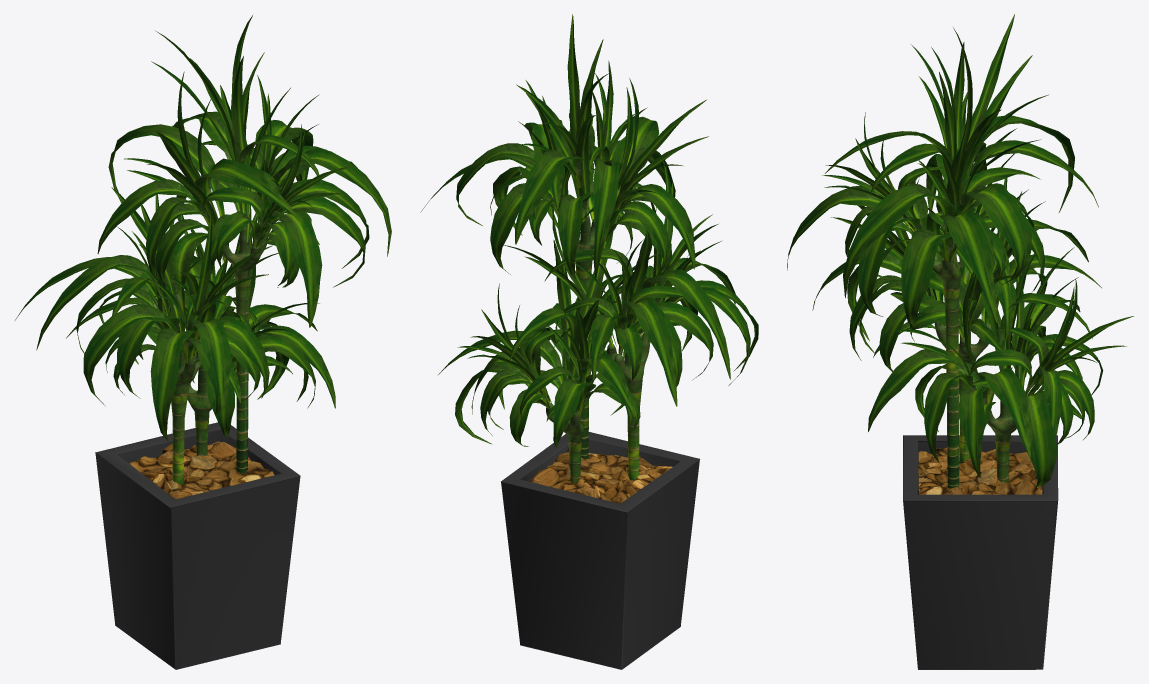
The model's file is dorasenazyure.fbx.
3 renders of one model, left to right at view 1: azimuth 30°, elevation 25°; view 2: azimuth 150°, elevation 25°; view 3: azimuth 270°, elevation 25°, orthographic. The views are drawn at different scales.
Parts seen in each view (by area): view 1: Box06, default01; view 2: Box06, default01; view 3: Box06, default01.
Boxes of the visible parts, x1,y1,x2,y2 form: Box06: [15, 15, 391, 484]; default01: [95, 422, 300, 669]; Box06: [420, 14, 758, 483]; default01: [501, 432, 699, 669]; Box06: [787, 14, 1133, 488]; default01: [903, 435, 1058, 669].
Bounding box in the file's own units: 1030 × 927 × 1879.
5 materials, 3 textured.
